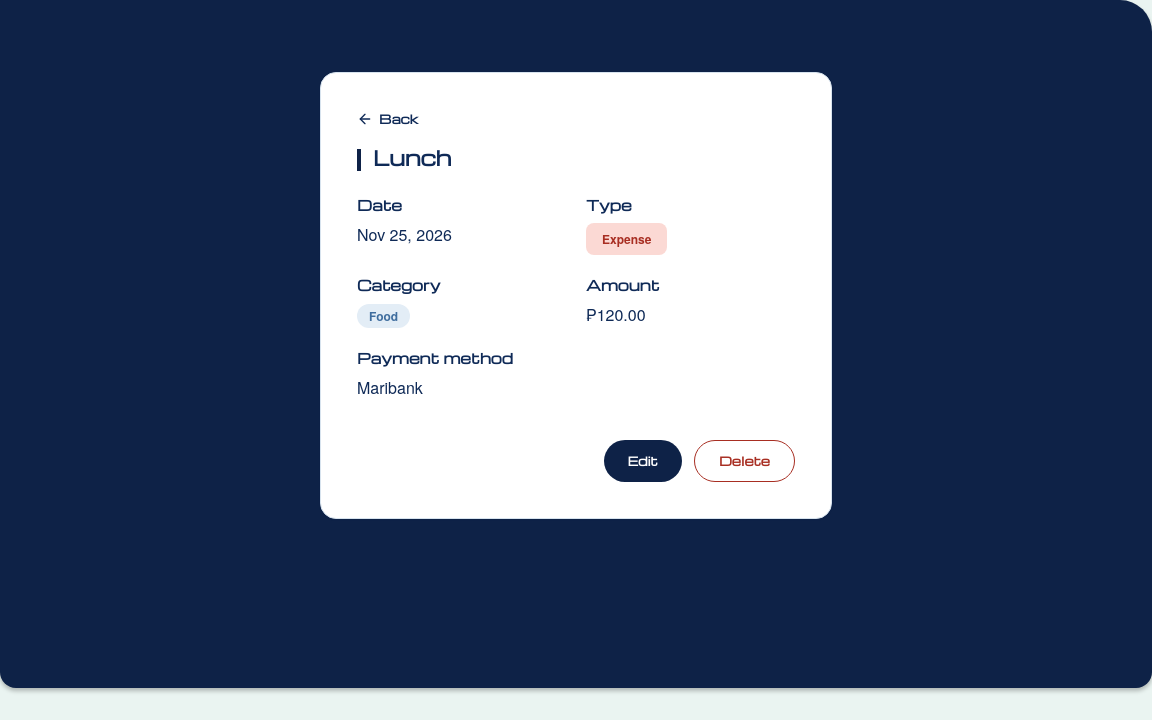
TransactionDetail › offers only the chosen type's categories when editing
This screenshot has width=1152, height=720.
Click the button "Edit" at (643, 461), box 604,440 -> 682,482
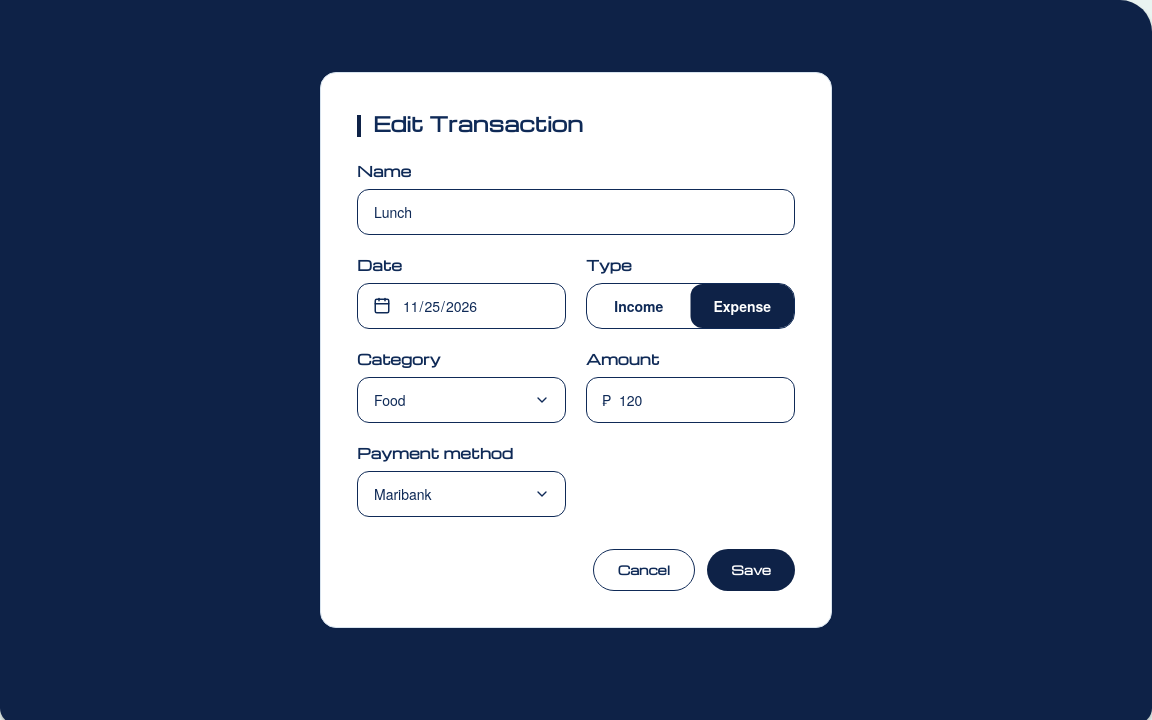
Click the button "Income" at (639, 306), box 587,284 -> 690,328
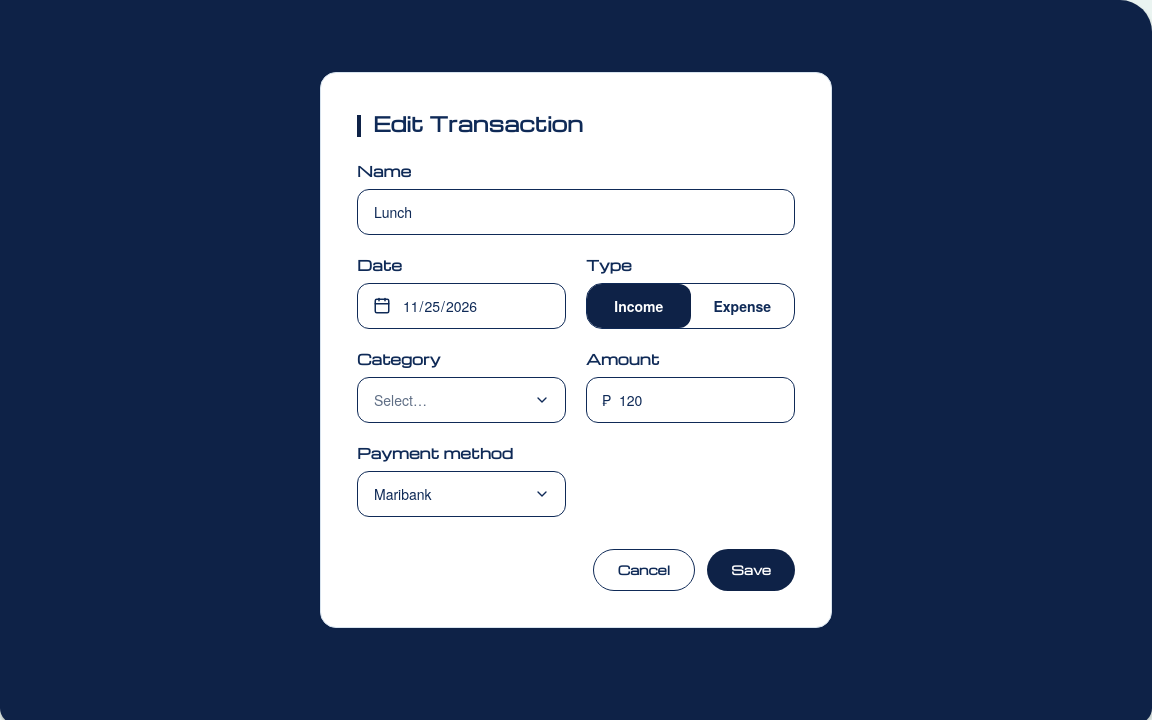
Result: the dropdown labelled "Category" shows "Select…" at 357,377 -> 566,423
